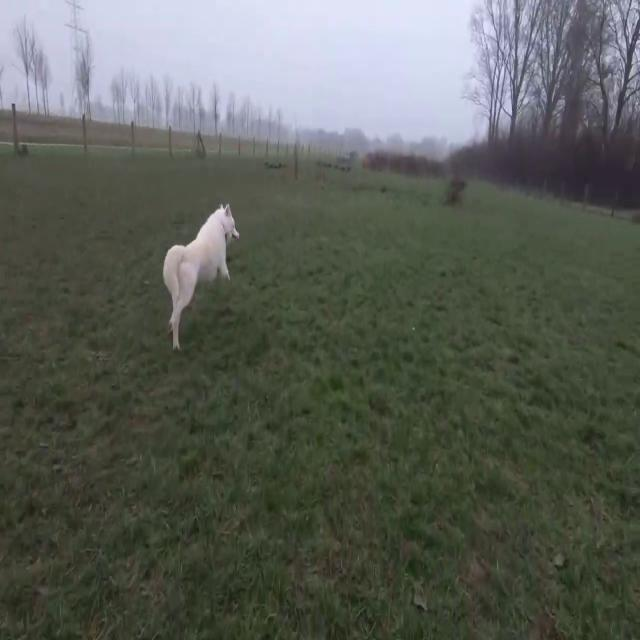Dog: (163, 203, 240, 349)
